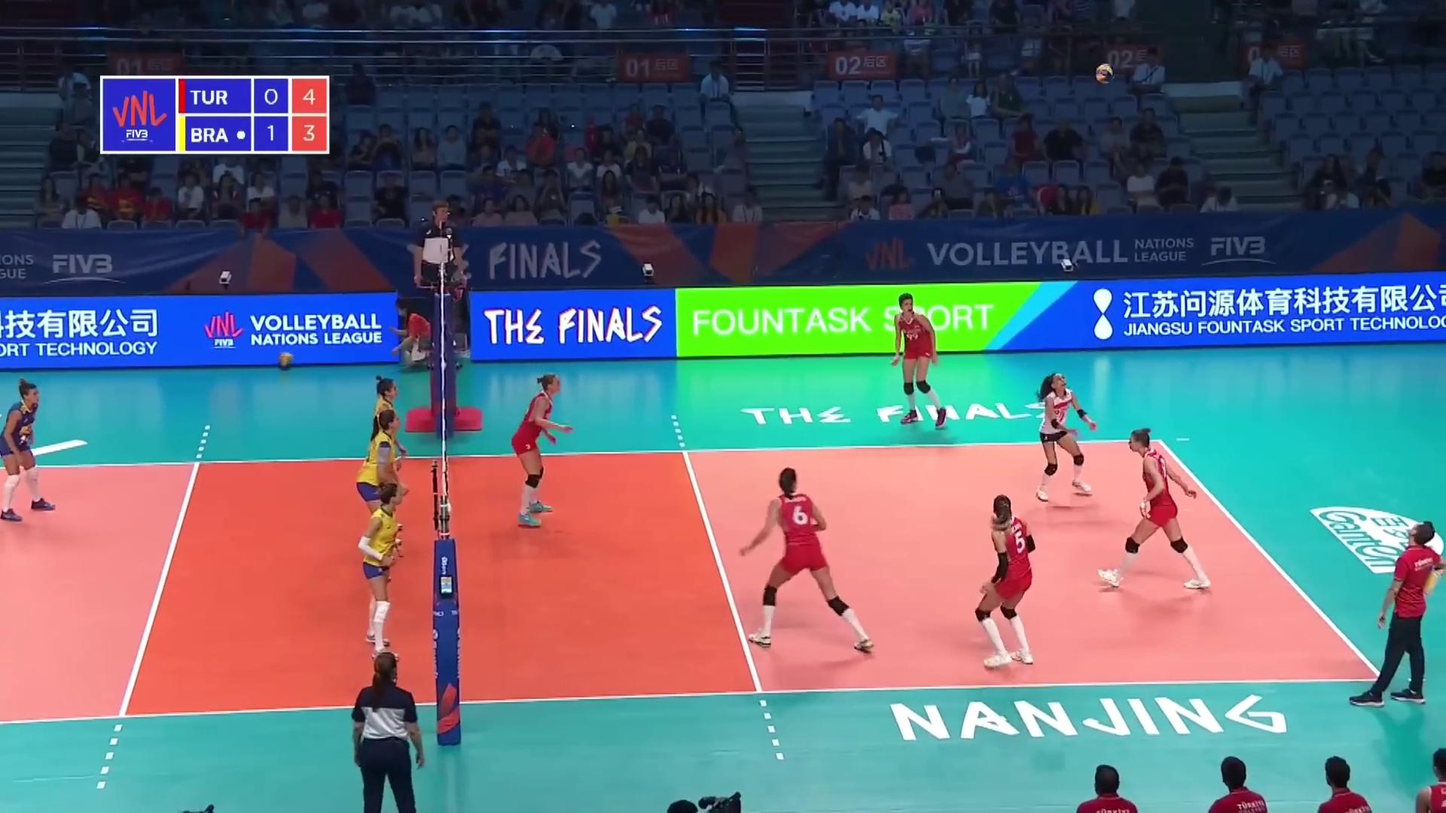player: (743, 468, 876, 652), (1106, 428, 1212, 596), (971, 495, 1038, 673), (508, 377, 574, 526), (354, 410, 405, 582), (1029, 372, 1096, 499), (891, 294, 948, 428), (361, 483, 405, 656), (0, 382, 54, 519), (360, 377, 404, 510)
refree: (353, 648, 422, 813), (411, 198, 466, 343)
